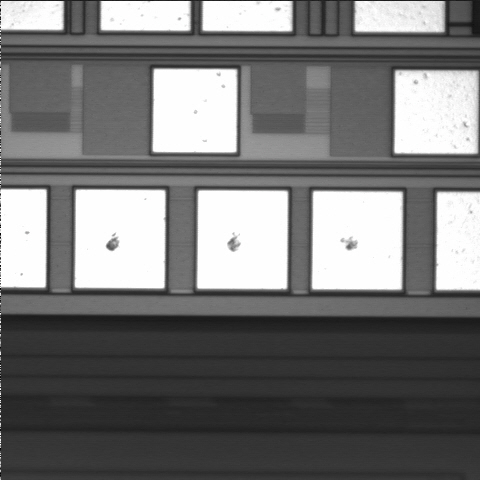pad: (197, 190, 288, 289), (312, 191, 402, 290), (75, 190, 165, 288), (153, 69, 237, 152), (394, 71, 477, 154)
